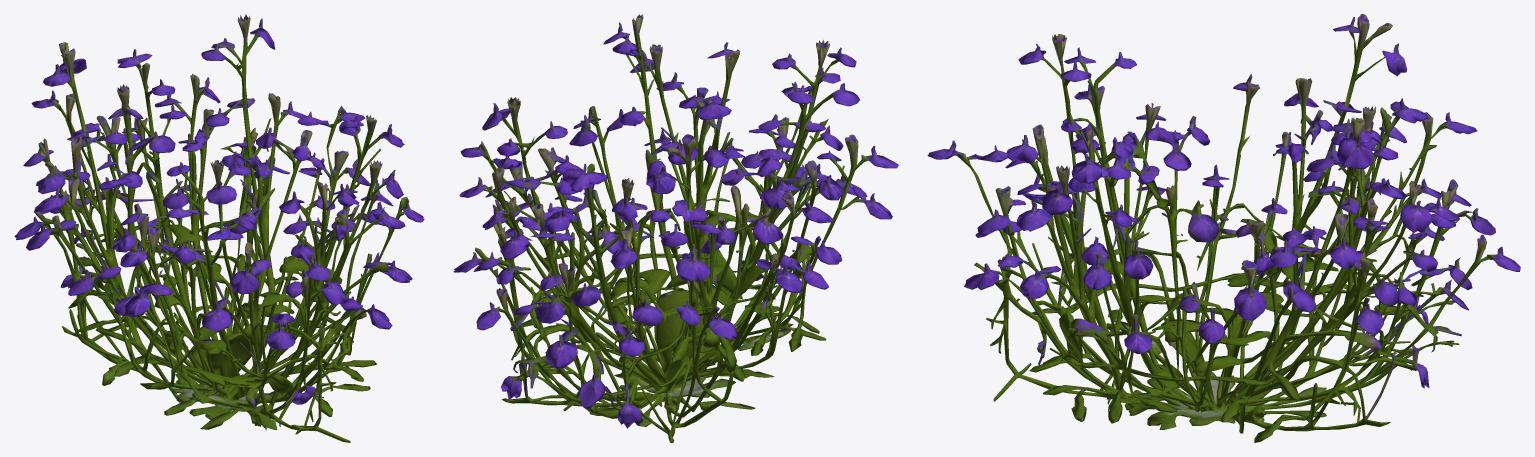
File: flower_b.glb
The picture shows the model from 3 angles, left to right: view 1: azimuth 30°, elevation 25°; view 2: azimuth 150°, elevation 25°; view 3: azimuth 270°, elevation 25°; orthographic projection. The views are drawn at different scales.
Parts seen in each view (by area): view 1: tripo_node_75cab313-5b50-43ab-82ef-7bbda1ea1637; view 2: tripo_node_75cab313-5b50-43ab-82ef-7bbda1ea1637; view 3: tripo_node_75cab313-5b50-43ab-82ef-7bbda1ea1637.
Boxes of the visible parts, x1,y1,x2,y2 form: tripo_node_75cab313-5b50-43ab-82ef-7bbda1ea1637: (14,14,424,442); tripo_node_75cab313-5b50-43ab-82ef-7bbda1ea1637: (453,14,898,442); tripo_node_75cab313-5b50-43ab-82ef-7bbda1ea1637: (927,14,1520,442).
Bounding box in the file's own units: 0.7154 × 0.6469 × 0.9794.
Materials: 1 (1 with a texture image).
